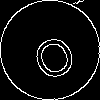O: (25, 25, 80, 83)
